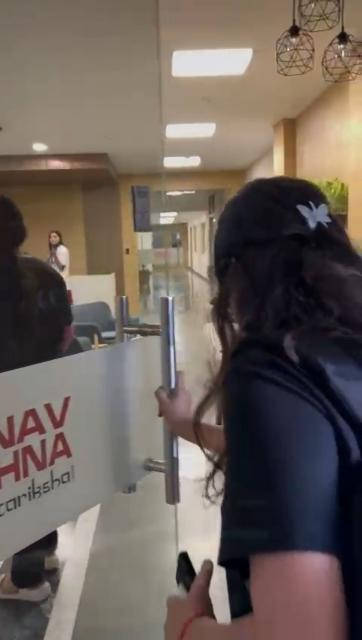moving-obj: (131, 184, 362, 640), (0, 181, 74, 593), (32, 214, 84, 324)
